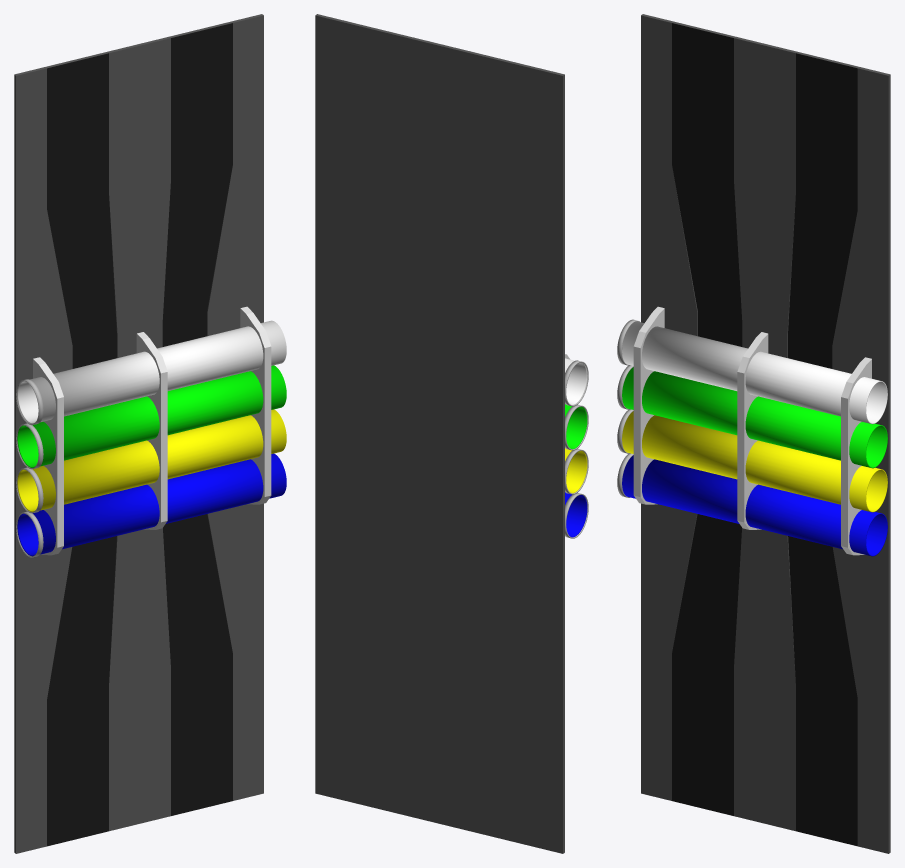
Rendered from Tile - Wall_LifeSupportPiping.fbx.
3 renders of one model, left to right at view 1: azimuth 30°, elevation 25°; view 2: azimuth 150°, elevation 25°; view 3: azimuth 330°, elevation 25°, orthographic.
Parts seen in each view (by area): view 1: Tile_Wall.002, Tile_Wall.001, Tile_Wall.004, Tile_Wall.003, Tile_Wall.000, pipe bracket; view 2: Tile_Wall.002, Tile_Wall.001, Tile_Wall.000, Tile_Wall.003, Tile_Wall.004; view 3: Tile_Wall.002, Tile_Wall.001, Tile_Wall.004, Tile_Wall.000, Tile_Wall.003, pipe bracket.
Boxes of the visible parts, bbox=[...] form: Tile_Wall.002: bbox=[14, 14, 263, 853]; Tile_Wall.001: bbox=[16, 320, 286, 425]; Tile_Wall.004: bbox=[16, 453, 286, 557]; Tile_Wall.003: bbox=[16, 409, 286, 513]; Tile_Wall.000: bbox=[16, 365, 286, 469]; pipe bracket: bbox=[33, 306, 271, 555]; Tile_Wall.002: bbox=[315, 14, 564, 853]; Tile_Wall.001: bbox=[565, 358, 588, 406]; Tile_Wall.000: bbox=[565, 404, 588, 450]; Tile_Wall.003: bbox=[565, 448, 588, 494]; Tile_Wall.004: bbox=[565, 492, 588, 538]; Tile_Wall.002: bbox=[641, 14, 890, 853]; Tile_Wall.001: bbox=[617, 319, 887, 424]; Tile_Wall.004: bbox=[617, 453, 887, 556]; Tile_Wall.000: bbox=[617, 365, 887, 468]; Tile_Wall.003: bbox=[617, 409, 887, 512]; pipe bracket: bbox=[633, 306, 871, 555].
Bounding box in the file's own units: 100 × 300 × 18.24.
